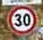limite 30: (5, 4, 37, 35)
